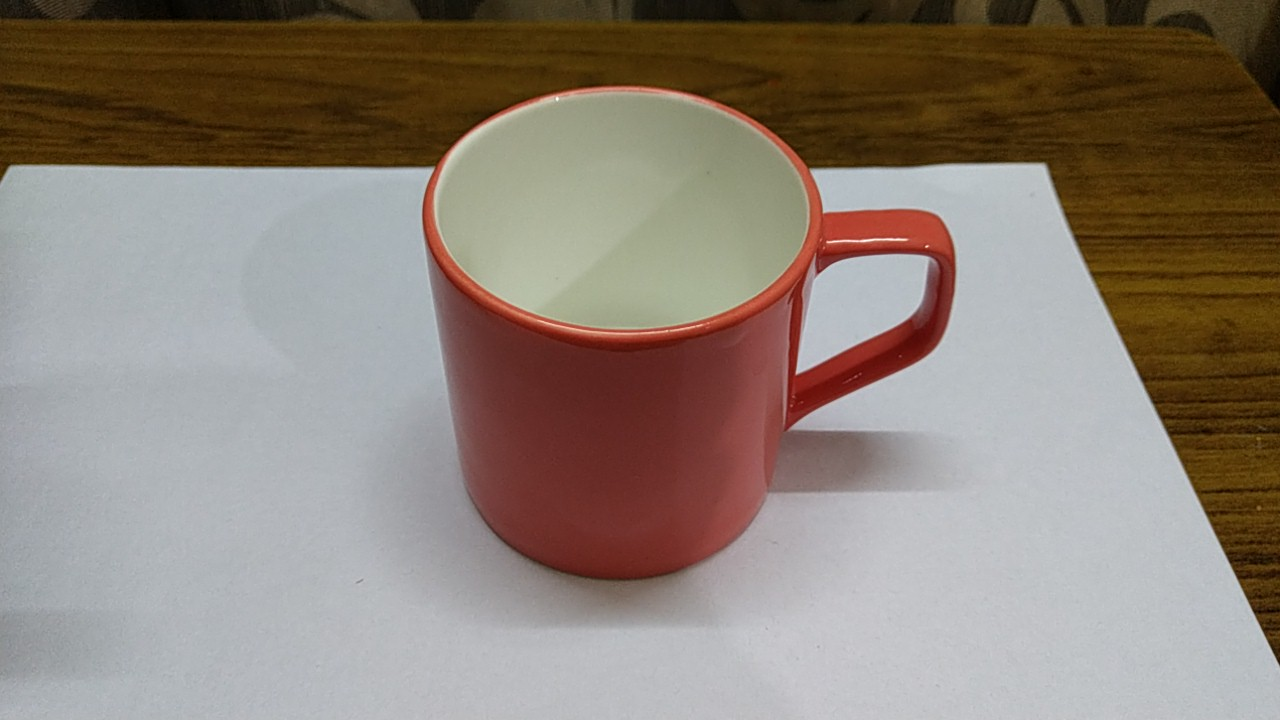cup: (408, 75, 969, 600)
